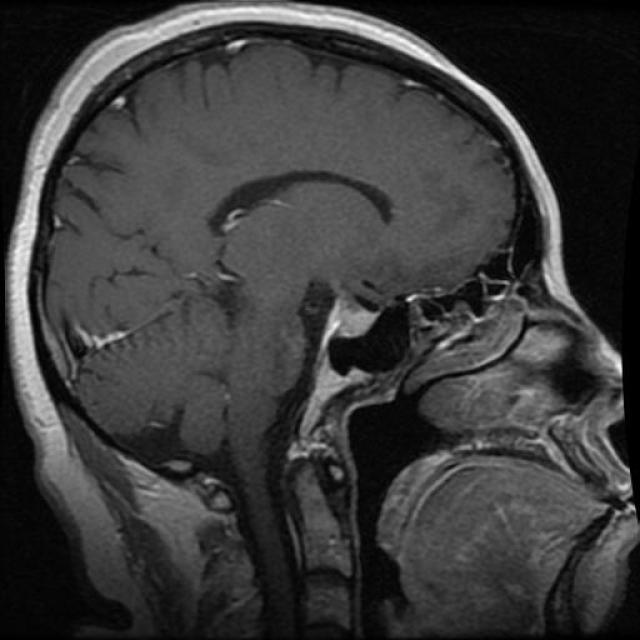pituitary: (314, 289, 382, 392)
